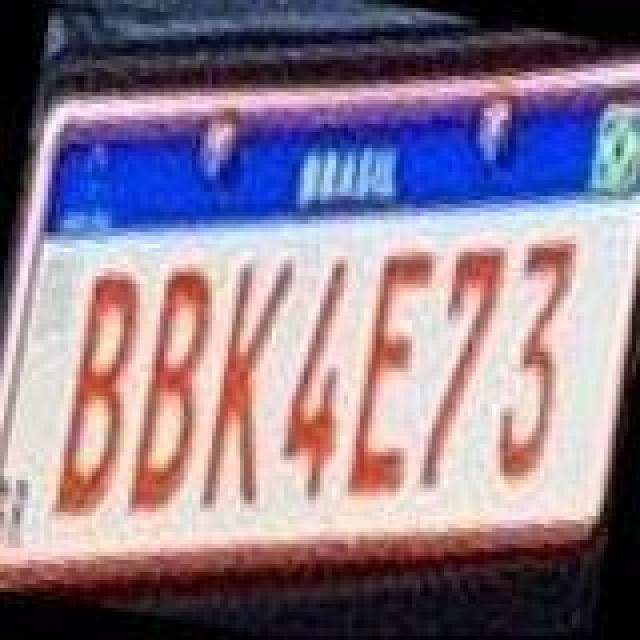3: (484, 228, 588, 484)
4: (268, 246, 372, 502)
7: (408, 244, 512, 504)
B: (46, 264, 154, 520), (124, 260, 228, 520)
E: (340, 242, 444, 506)
K: (196, 250, 300, 514)
